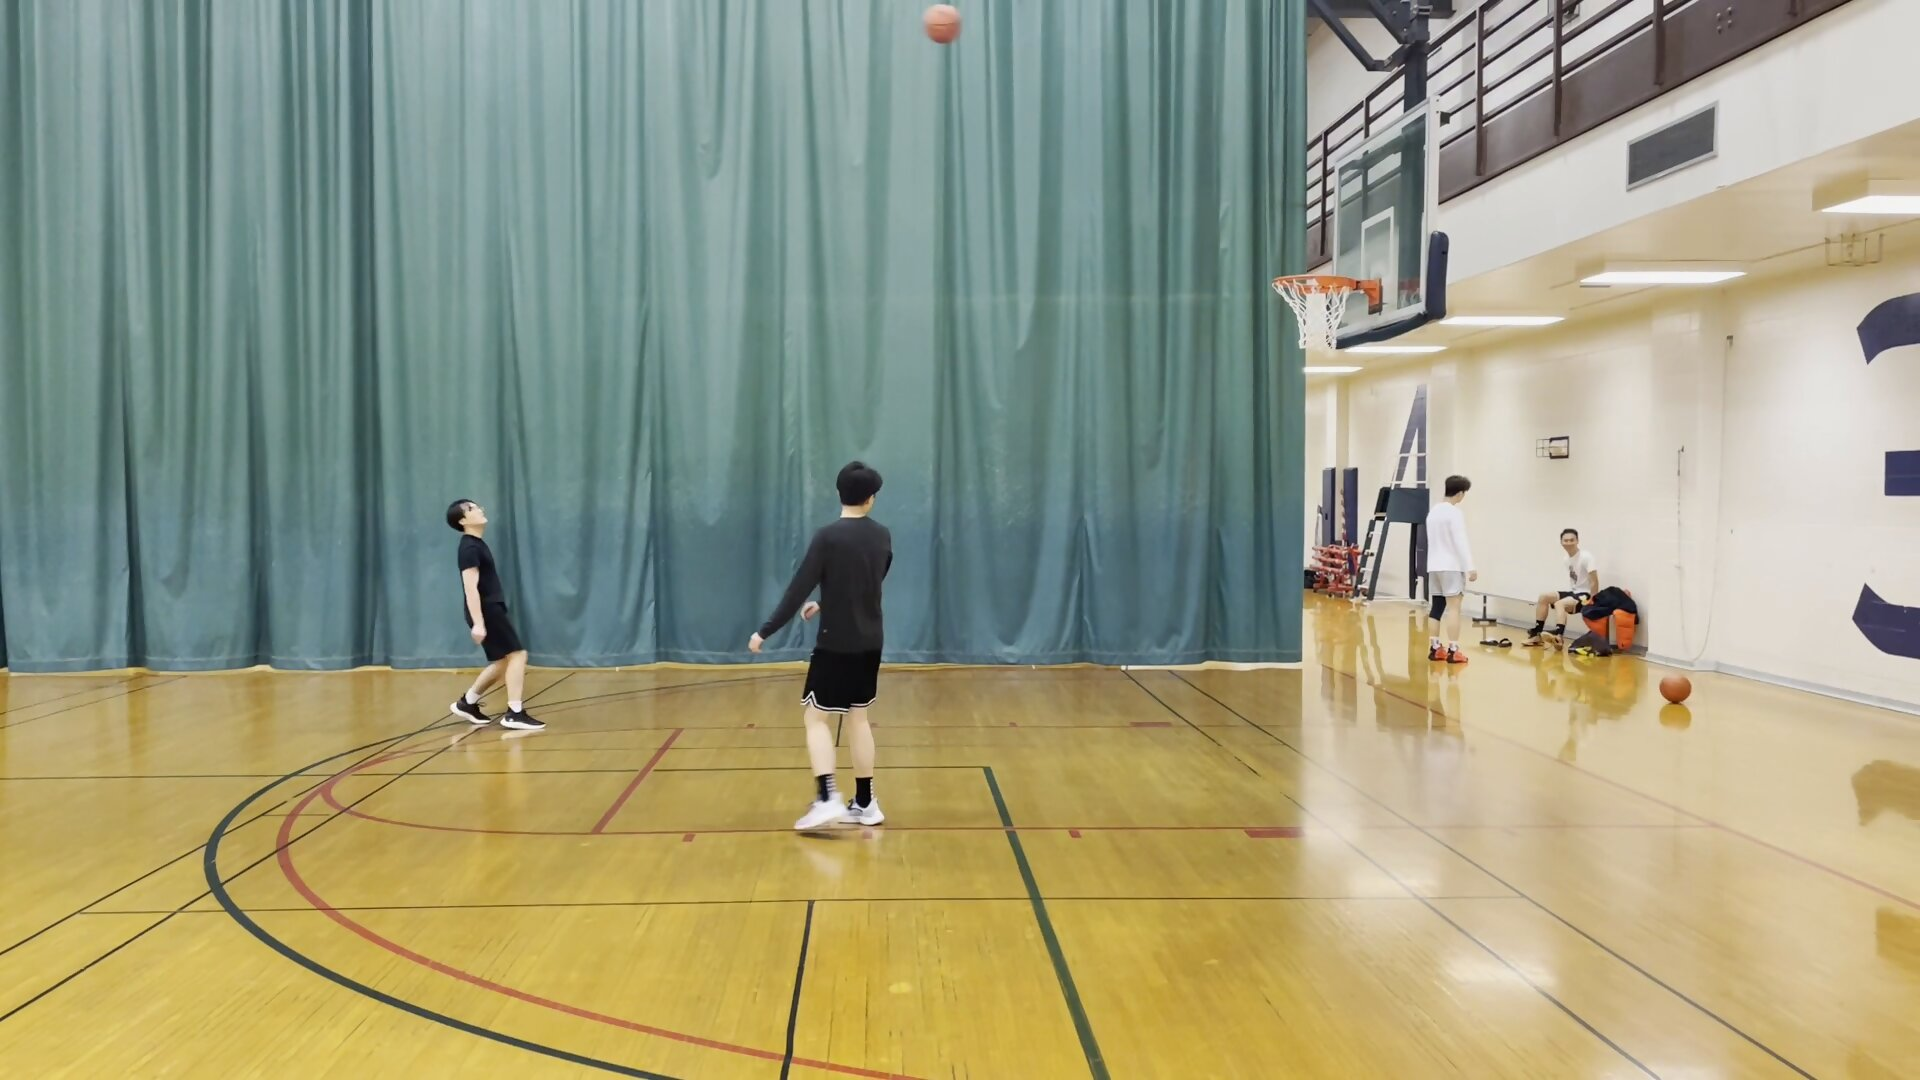ball: (925, 2, 967, 49), (1655, 669, 1696, 705)
net: (1295, 327, 1341, 357)
player: (770, 457, 891, 834), (441, 495, 546, 735), (1426, 477, 1479, 669), (1519, 525, 1597, 650)
rim: (1268, 268, 1362, 295)
